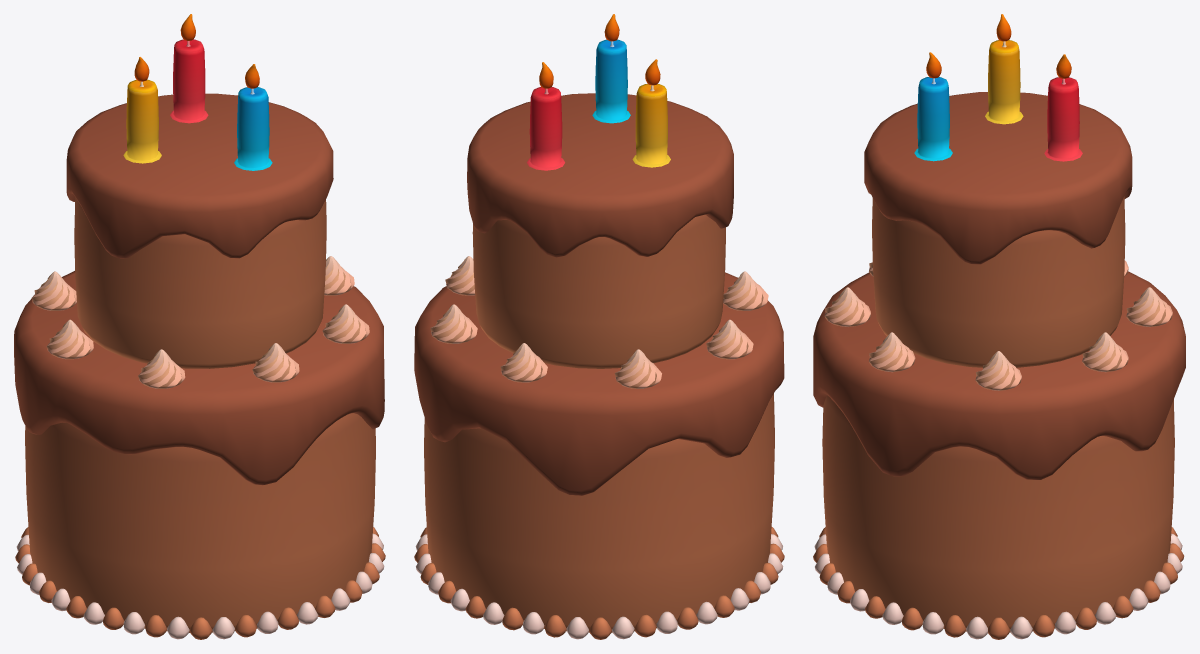
Rendered from Cake_Chocolate_V1_00.fbx.
3 renders of one model, left to right at view 1: azimuth 30°, elevation 25°; view 2: azimuth 150°, elevation 25°; view 3: azimuth 270°, elevation 25°, orthographic.
Parts seen in each view (by area): view 1: Cake_Chocolate_V1_00; view 2: Cake_Chocolate_V1_00; view 3: Cake_Chocolate_V1_00.
Part boxes in pixels (x1,y1,x2,y2): Cake_Chocolate_V1_00: [14, 14, 385, 639]; Cake_Chocolate_V1_00: [414, 14, 784, 639]; Cake_Chocolate_V1_00: [813, 14, 1185, 639].
Size of the model in its own units: 65.77 by 102 by 65.84.
